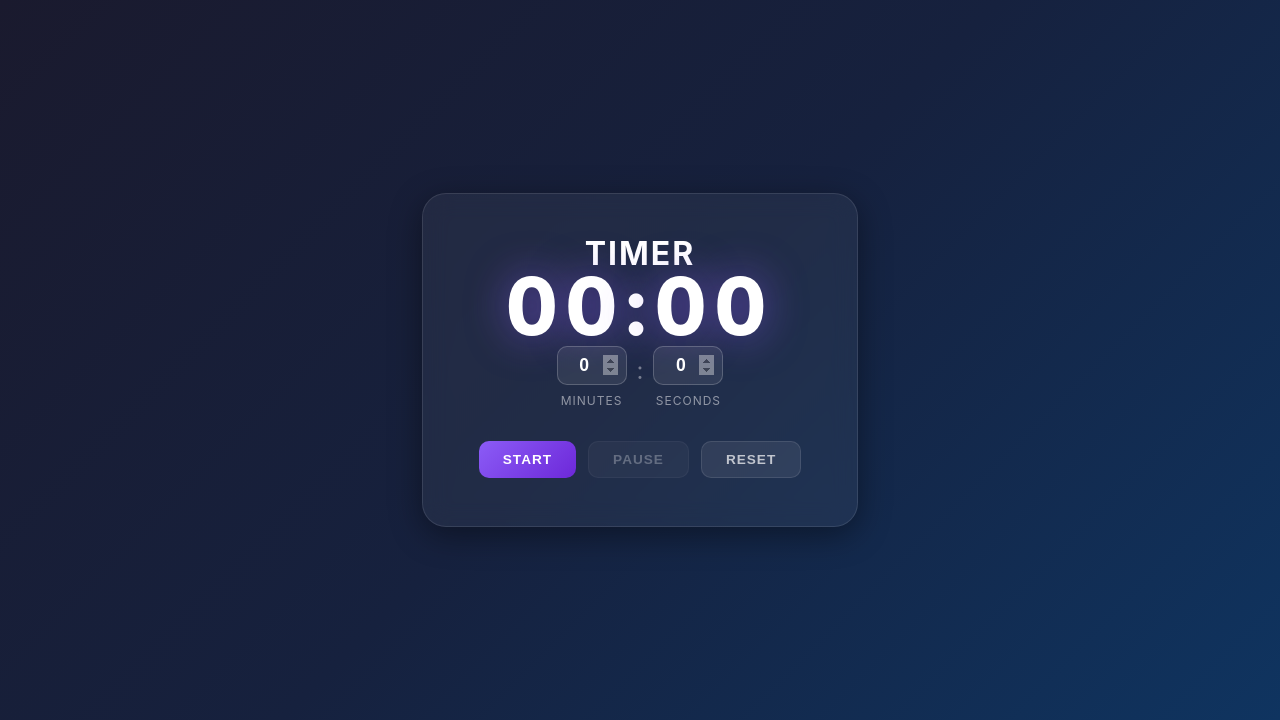
CountdownTimer › resumes the timer after pausing
Replace the text in the 2nd number field with "10" at [688, 366], box 654,346 -> 724,385
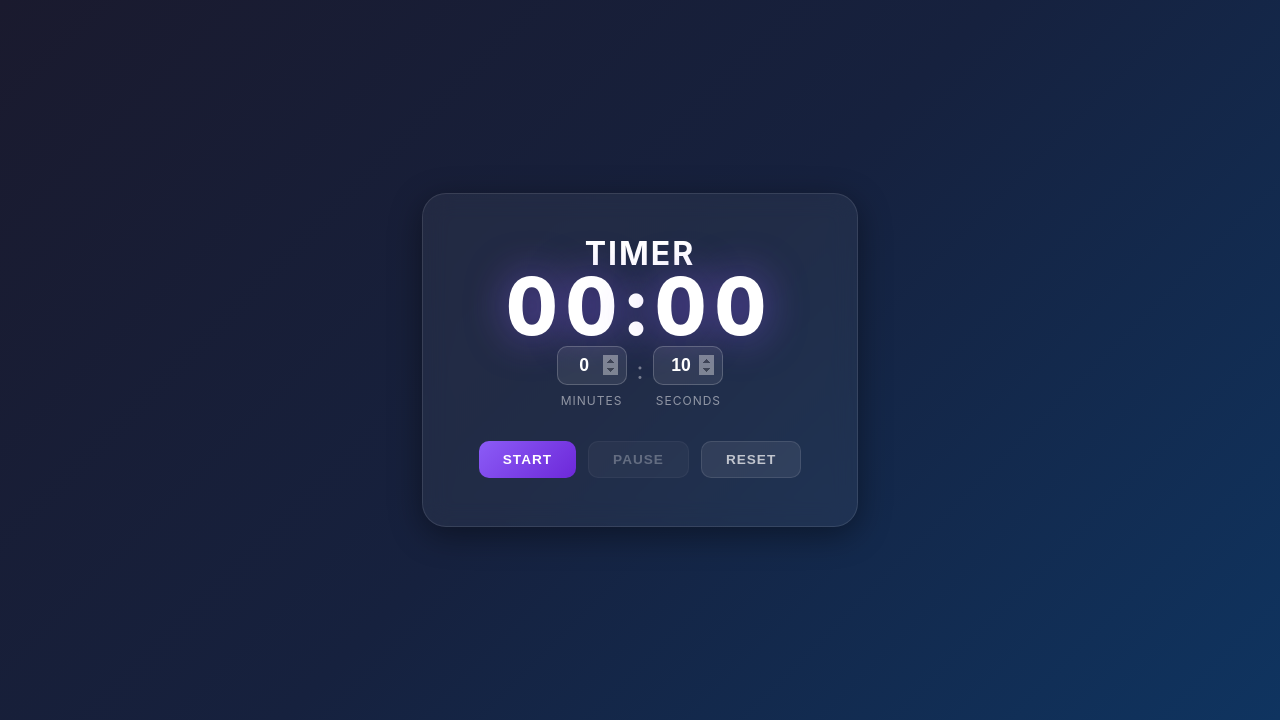
Click the button "Start" at [527, 460], box 479,441 -> 576,478
Wait 2000 ms
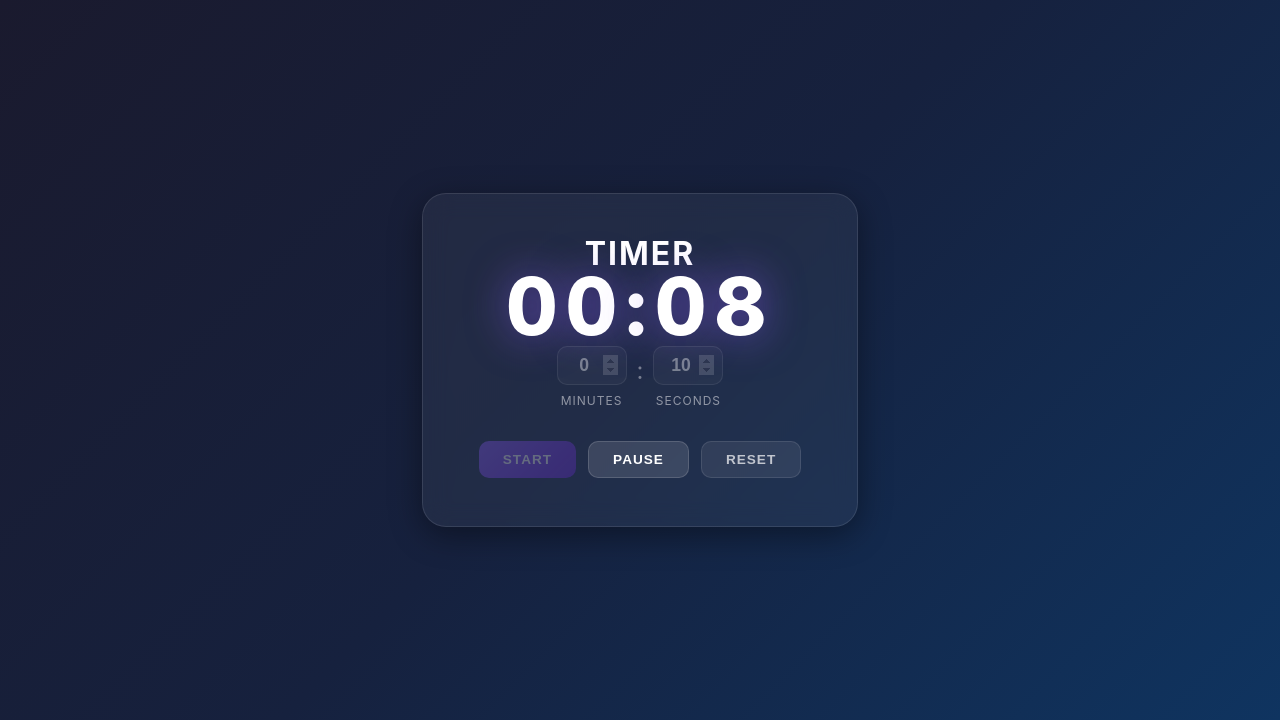
Click the button "Pause" at [638, 460], box 588,441 -> 689,478
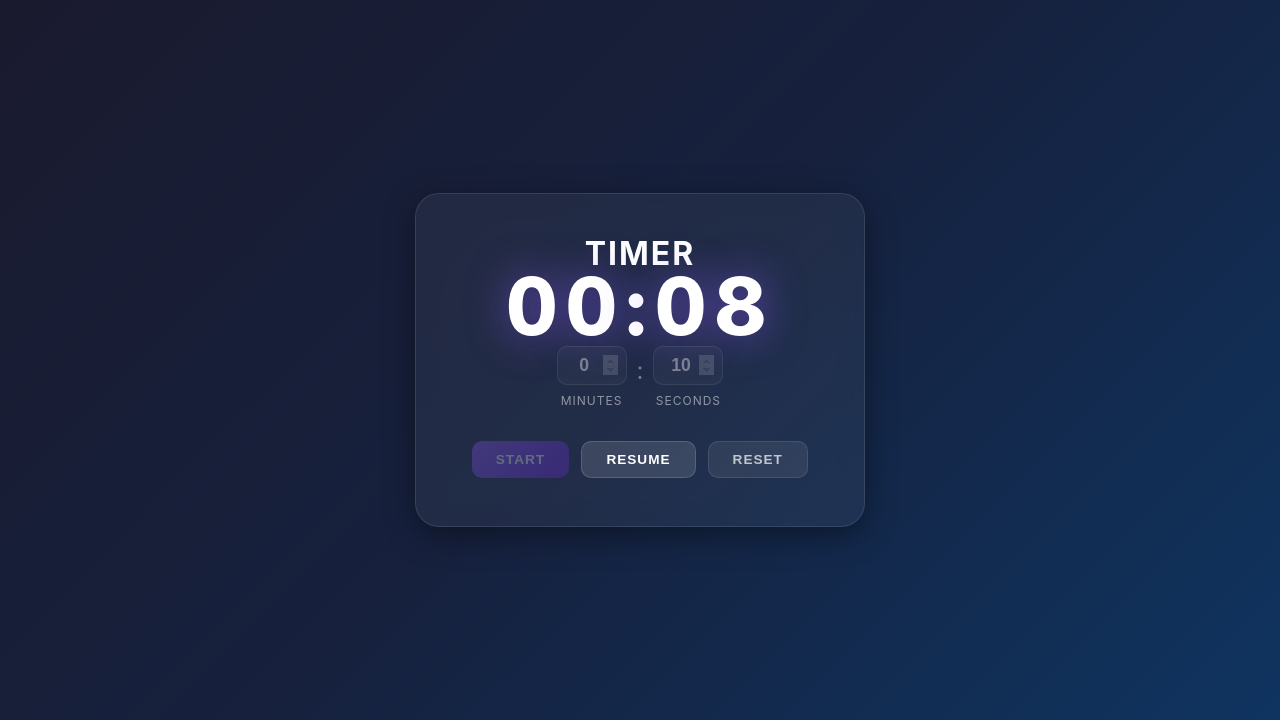
Click the button "Resume" at [638, 460], box 581,441 -> 696,478
Wait 2000 ms
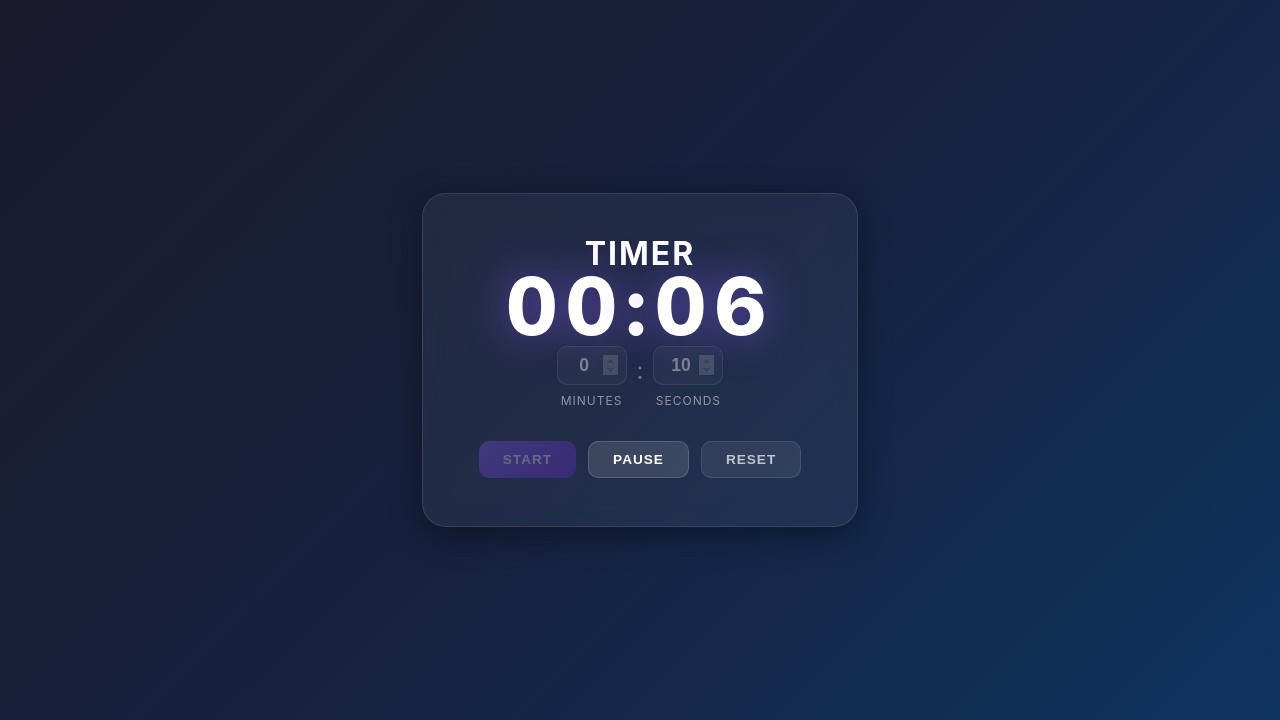
Expected: the text "00:06" is shown, 506,294 -> 774,318
